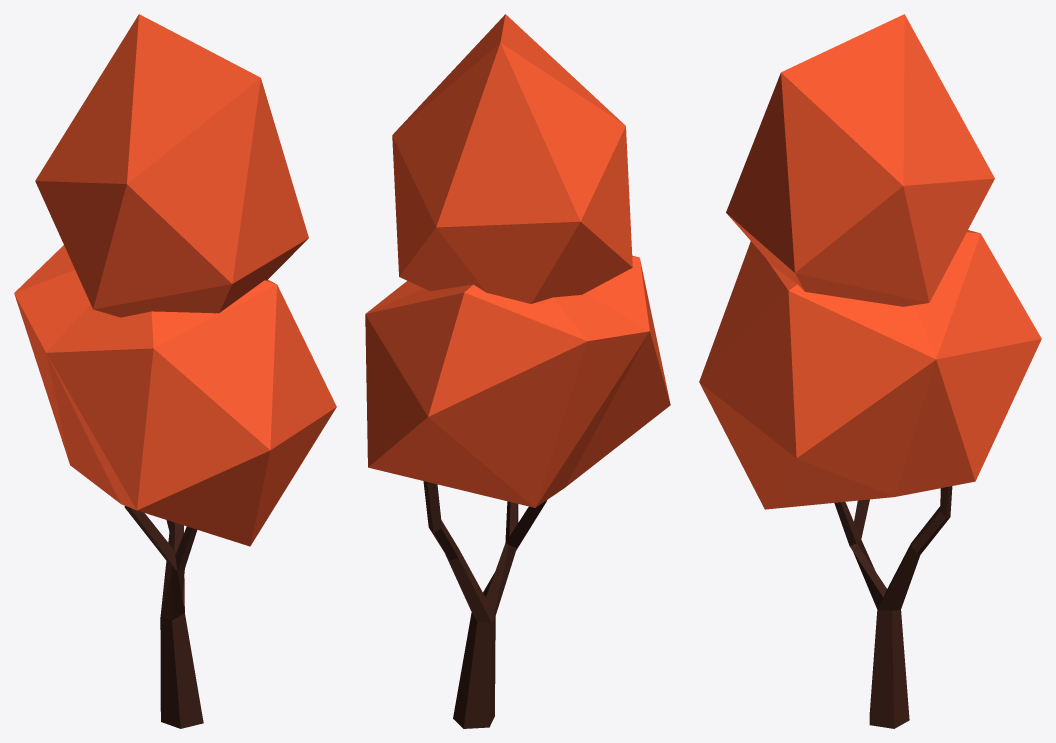
File: MeadowAutumnTree2.fbx
3 renders of one model, left to right at view 1: azimuth 30°, elevation 25°; view 2: azimuth 150°, elevation 25°; view 3: azimuth 270°, elevation 25°, orthographic. The views are drawn at different scales.
Parts seen in each view (by area): view 1: MeadowAutumnTree2; view 2: MeadowAutumnTree2; view 3: MeadowAutumnTree2.
Part boxes in pixels (left/top/right/bottom): MeadowAutumnTree2: left=14, top=14, right=336, bottom=728; MeadowAutumnTree2: left=365, top=14, right=670, bottom=728; MeadowAutumnTree2: left=699, top=14, right=1041, bottom=728.
Size of the model in its own units: 3.41 by 8.7 by 3.92.
